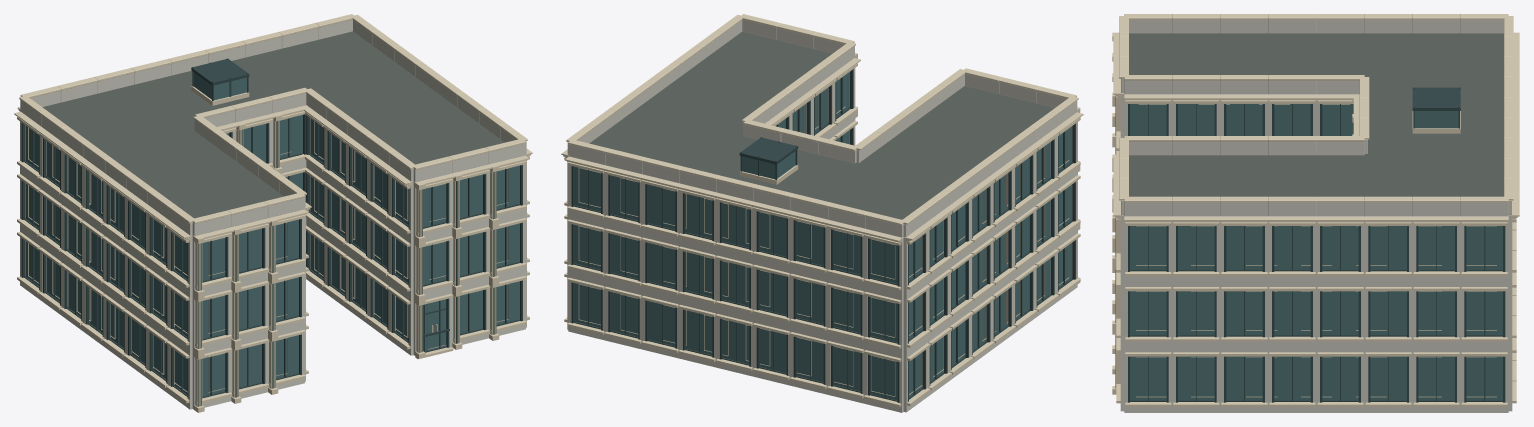
File: modern-museum.glb
3 views of the same model, side by side, from view 1: azimuth 30°, elevation 25°; view 2: azimuth 150°, elevation 25°; view 3: azimuth 270°, elevation 25° (orthographic). The views are drawn at different scales.
Visible parts, largest first — view 1: Roof main.025, Roof left.007, Roof right.007, Foundation.044, collection/roof/frame.014, right/north/0/1667/glass.006, left/north/0/5000/glass.007, left/north/1/5000/glass.007, left/north/2/5000/glass.004, right/north/1/8333/glass.007, left/north/0/1667/glass.007, right/north/0/8333/glass.007 (+43 smaller); view 2: Roof main.025, Roof right.007, Roof left.007, Foundation.044, collection/roof/frame.014, main/south/0/5000/glass.017, main/south/1/5000/glass.017, main/south/2/5000/glass.010, main/south/1/3889/glass.003, main/south/0/3889/glass.003, main/south/0/7222/glass.003, main/south/2/3889/glass.003 (+61 smaller); view 3: Roof main.025, Roof left.007, Roof right.007, main/east/0/1667/glass.004, main/east/0/5000/glass.011, main/east/0/8333/glass.004, right/east/0/7000/glass.005, right/east/0/9000/glass.005, main/east/1/8333/glass.004, main/east/2/8333/glass.003, main/east/2/1667/glass.003, main/east/2/5000/glass.008 (+113 smaller).
Part boxes in pixels (box(x1,y1,x2,y2)): Roof main.025: box(42, 31, 414, 152); Roof left.007: box(105, 131, 283, 235); Roof right.007: box(326, 77, 504, 181); Foundation.044: box(28, 117, 508, 392); collection/roof/frame.014: box(191, 58, 249, 100); right/north/0/1667/glass.006: box(423, 299, 446, 350); left/north/0/5000/glass.007: box(239, 344, 261, 387); left/north/1/5000/glass.007: box(239, 286, 261, 329); left/north/2/5000/glass.004: box(239, 228, 261, 271); right/north/1/8333/glass.007: box(496, 223, 519, 266); left/north/0/1667/glass.007: box(202, 353, 225, 396); right/north/0/8333/glass.007: box(496, 281, 519, 324); Roof main.025: box(589, 109, 948, 236); Roof right.007: box(637, 31, 832, 134); Roof left.007: box(859, 86, 1054, 185); Foundation.044: box(578, 75, 1069, 396); collection/roof/frame.014: box(739, 137, 798, 180); main/south/0/5000/glass.017: box(722, 319, 749, 363); main/south/1/5000/glass.017: box(722, 261, 749, 305); main/south/2/5000/glass.010: box(722, 203, 749, 247); main/south/1/3889/glass.003: box(760, 270, 786, 314); main/south/0/3889/glass.003: box(760, 328, 786, 372); main/south/0/7222/glass.003: box(648, 301, 675, 345); main/south/2/3889/glass.003: box(760, 212, 786, 256); Roof main.025: box(1364, 33, 1503, 196); Roof left.007: box(1129, 33, 1364, 74); Roof right.007: box(1129, 155, 1364, 196); main/east/0/1667/glass.004: box(1466, 356, 1502, 400); main/east/0/5000/glass.011: box(1418, 356, 1454, 400); main/east/0/8333/glass.004: box(1370, 356, 1406, 400); right/east/0/7000/glass.005: box(1178, 356, 1214, 400); right/east/0/9000/glass.005: box(1130, 356, 1166, 400); main/east/1/8333/glass.004: box(1370, 291, 1406, 334); main/east/2/8333/glass.003: box(1370, 226, 1406, 269); main/east/2/1667/glass.003: box(1466, 226, 1502, 269); main/east/2/5000/glass.008: box(1418, 226, 1454, 269).
Size of the model in its own units: 18.92 by 10.33 by 16.97.
